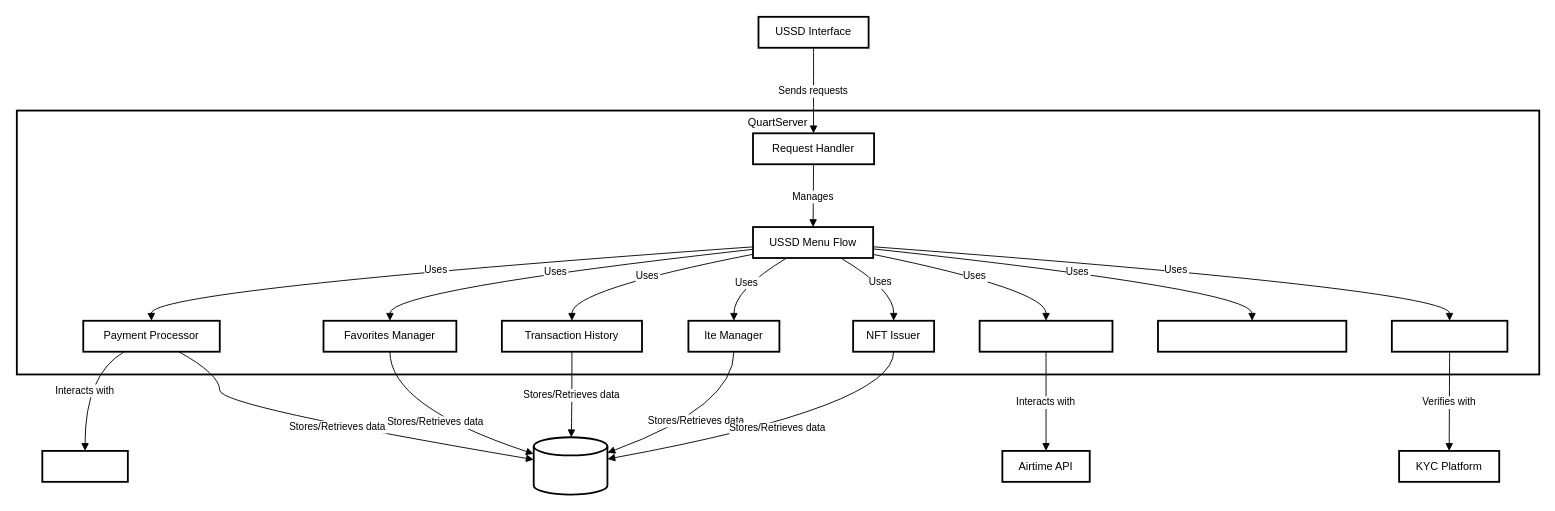
This 1555x511 diagram has some shape labels left out. Here are the shapes that lost their labels. From the top down, the centre of each, then its label:
point (1045, 335): Airtime Converter
point (1252, 335): XLM-Fiat Exchange Service
point (1449, 335): KYC Integration
point (84, 466): Stellar SDK
point (570, 465): Database
